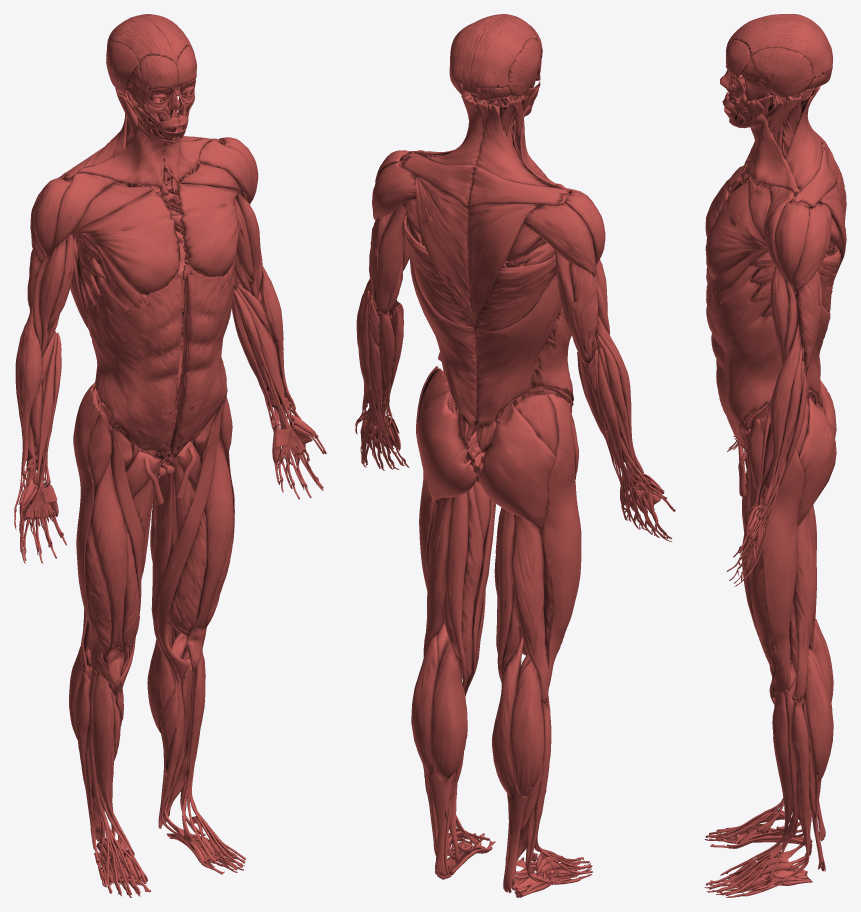
File: muscles.glb
3 renders of one model, left to right at view 1: azimuth 30°, elevation 25°; view 2: azimuth 150°, elevation 25°; view 3: azimuth 270°, elevation 25°, orthographic. The views are drawn at different scales.
Visible parts, largest first — view 1: ta2-2364.r, ta2-2303.r, ta2-2364.l, ta2-2303.l, ta2-2614.r, ta2-2614.l, ta2-2610.l, ta2-2690.r, ta2-2147.r, ta2-2620.l, ta2-2644.r, ta2-2635.l (+44 smaller); view 2: ta2-2231.r, ta2-2690.r, ta2-2231.l, ta2-2598.r, ta2-2227.l, ta2-2639.r, ta2-2227.r, ta2-2598.l, ta2-2659.l, ta2-2658.r, ta2-2059.r, ta2-2455.r (+35 smaller); view 3: ta2-2364.l, ta2-2690.l, ta2-2303.l, ta2-2059.l, ta2-2639.l, ta2-2598.l, ta2-2058.l, ta2-2658.l, ta2-2147.l, ta2-2496.l, ta2-2454.l, ta2-2455.l (+40 smaller).
Boxes of the visible parts, x1,y1,x2,y2 form: ta2-2364.r: (86,260,182,451); ta2-2303.r: (70,190,180,294); ta2-2364.l: (175,266,234,447); ta2-2303.l: (178,183,239,277); ta2-2614.r: (90,458,127,691); ta2-2614.l: (186,418,233,672); ta2-2610.l: (158,399,225,682); ta2-2690.r: (73,382,110,681); ta2-2147.r: (78,118,176,187); ta2-2620.l: (169,510,207,657); ta2-2644.r: (92,674,134,855); ta2-2635.l: (151,459,179,684); ta2-2231.r: (475,254,561,428); ta2-2690.r: (542,394,581,688); ta2-2231.l: (403,215,476,426); ta2-2598.r: (478,406,555,530); ta2-2227.l: (414,174,475,330); ta2-2639.r: (511,514,549,703); ta2-2227.r: (468,203,545,331); ta2-2598.l: (416,391,478,505); ta2-2659.l: (431,640,467,780); ta2-2658.r: (510,659,544,796); ta2-2059.r: (469,15,537,94); ta2-2455.r: (524,202,595,277); ta2-2364.l: (706,265,781,445); ta2-2690.l: (759,415,804,695); ta2-2303.l: (705,181,766,279); ta2-2059.l: (729,18,832,78); ta2-2639.l: (793,511,816,700); ta2-2598.l: (797,397,836,526); ta2-2058.l: (750,47,813,97); ta2-2658.l: (805,654,833,781); ta2-2147.l: (729,114,797,192); ta2-2496.l: (763,321,800,506); ta2-2454.l: (774,202,809,285); ta2-2455.l: (791,203,831,294).
Bounding box in the file's own units: 0.6598 × 1.7 × 0.2586.
